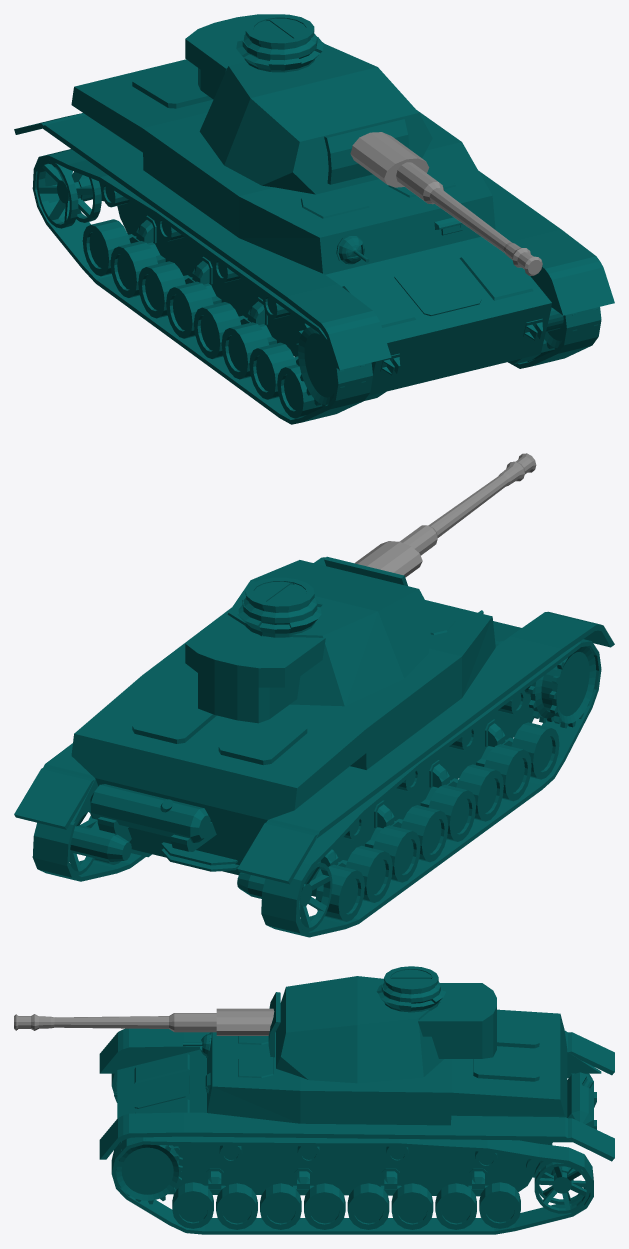
The model's file is panzar.glb.
The picture shows the model from 3 angles, top to bottom: view 1: azimuth 30°, elevation 25°; view 2: azimuth 150°, elevation 25°; view 3: azimuth 270°, elevation 25°; orthographic projection. The views are drawn at different scales.
Parts seen in each view (by area): view 1: body, turret, barrel; view 2: body, turret, barrel; view 3: body, turret, barrel.
Boxes of the visible parts, <box> form: body: <box>14,59,614,424</box>; turret: <box>185,14,432,194</box>; barrel: <box>350,132,542,275</box>; body: <box>14,557,614,937</box>; turret: <box>185,556,432,723</box>; barrel: <box>355,453,536,577</box>; body: <box>99,1009,614,1234</box>; turret: <box>268,966,496,1083</box>; barrel: <box>14,1008,274,1035</box>.
Size of the model in its own units: 2.88 by 2.61 by 6.9.
